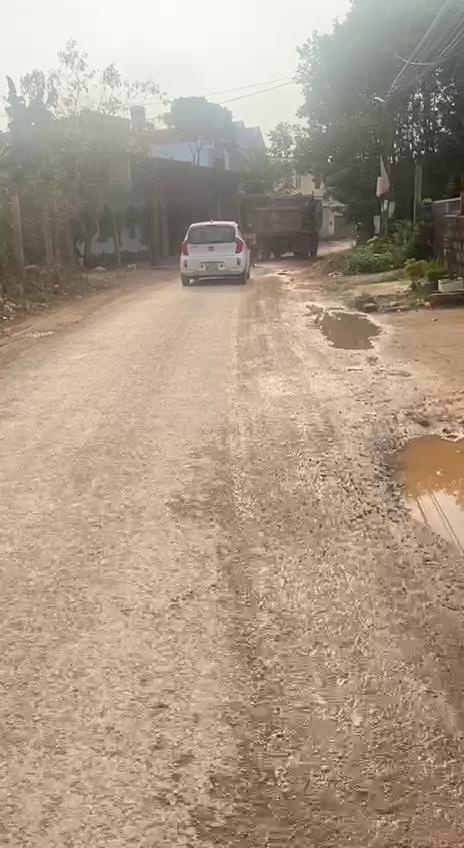pothole: (376, 423, 464, 556), (304, 300, 381, 354)
